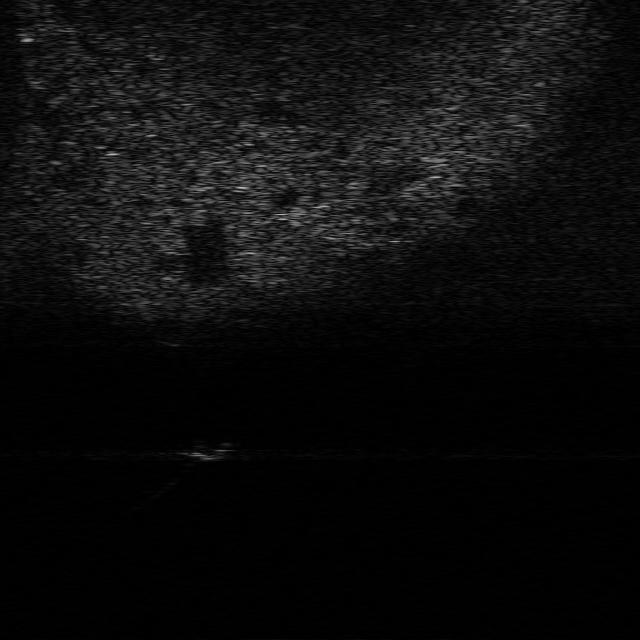cube: (182, 437, 232, 463)
